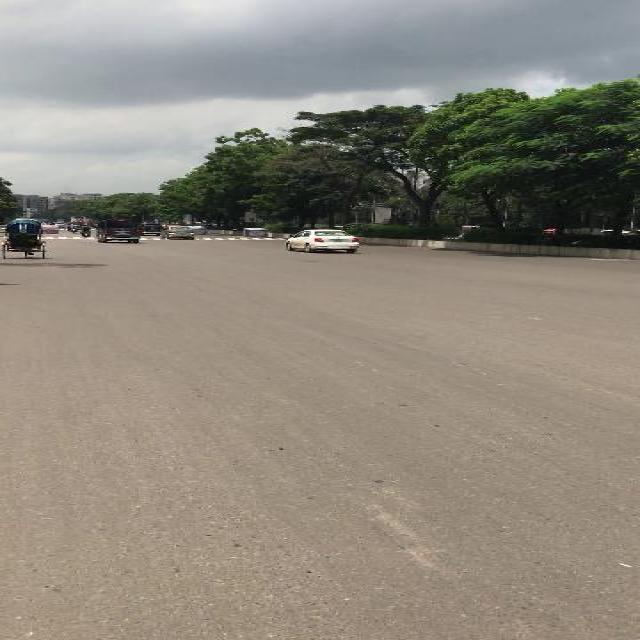bike: (78, 224, 92, 239), (69, 223, 76, 234)
vehicle: (285, 228, 361, 254), (1, 218, 47, 260), (96, 220, 142, 245), (159, 227, 195, 241), (141, 224, 163, 236)
